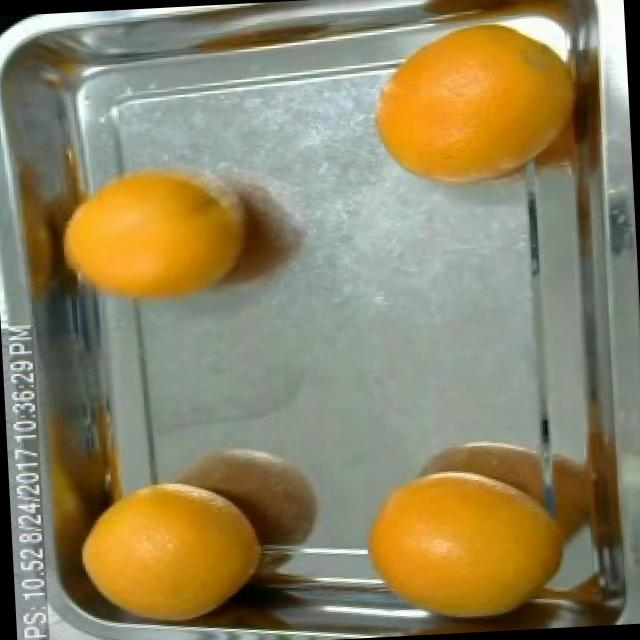Fruit: (342, 454, 575, 638), (56, 470, 282, 638), (0, 22, 120, 109)
